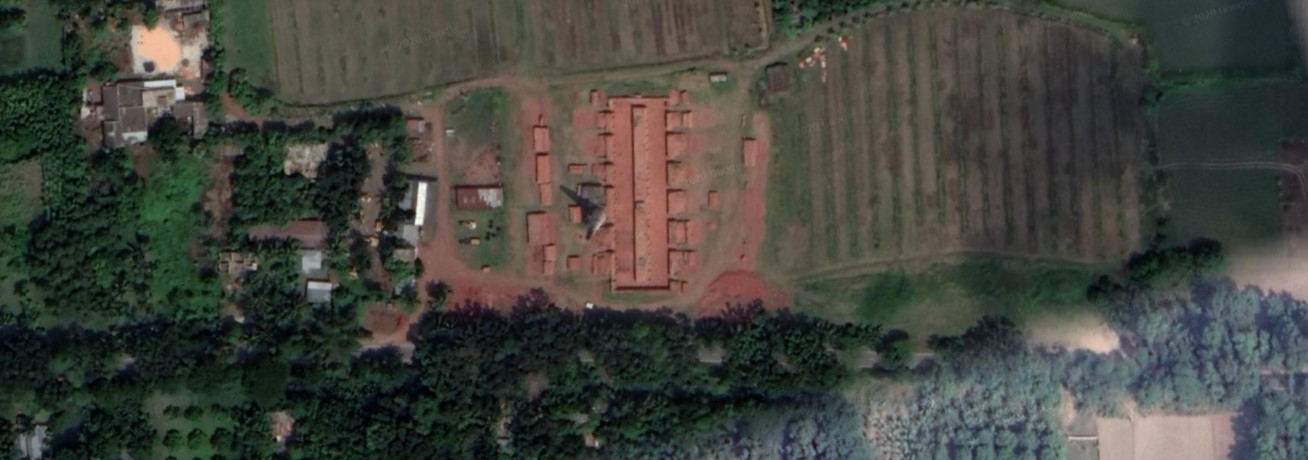kiln: (549, 97, 695, 294)
